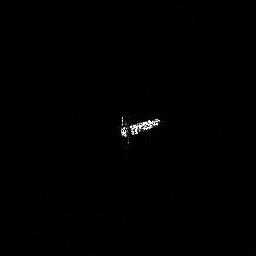ship: (116, 113, 163, 141)
